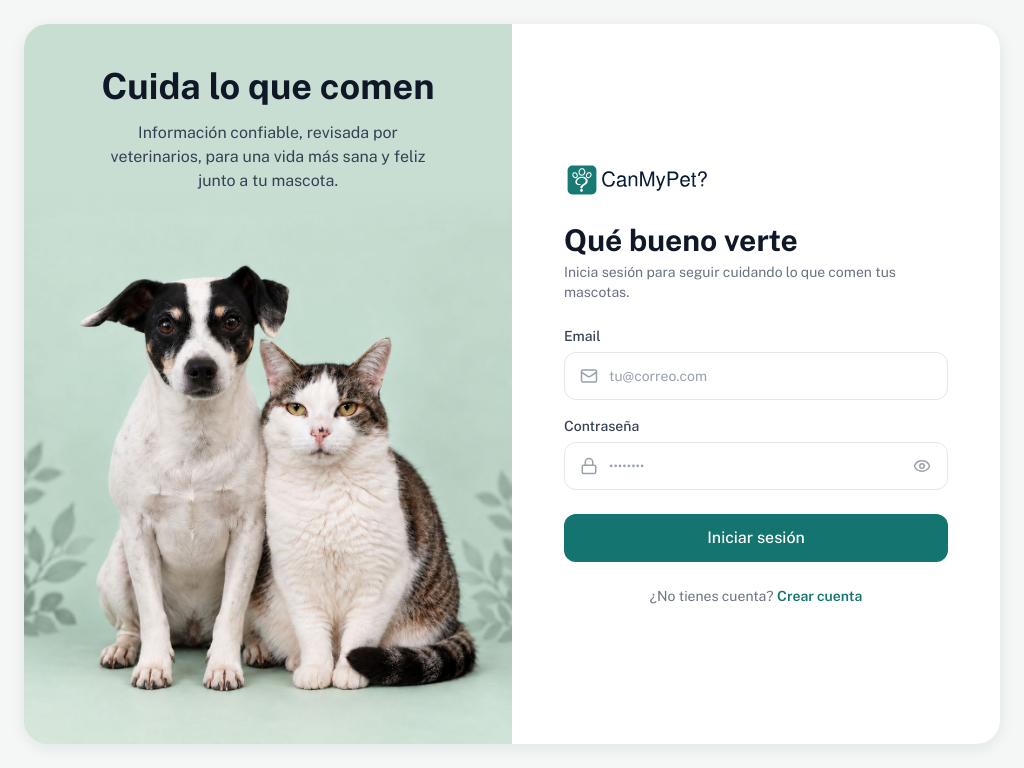
Test case: LoginPage › reports wrong credentials
The width and height of the screenshot is (1024, 768).
Step 1. Type "ana@correo.com" into the field labelled "Email" → x=756, y=376, box left=564, top=352, right=948, bottom=400
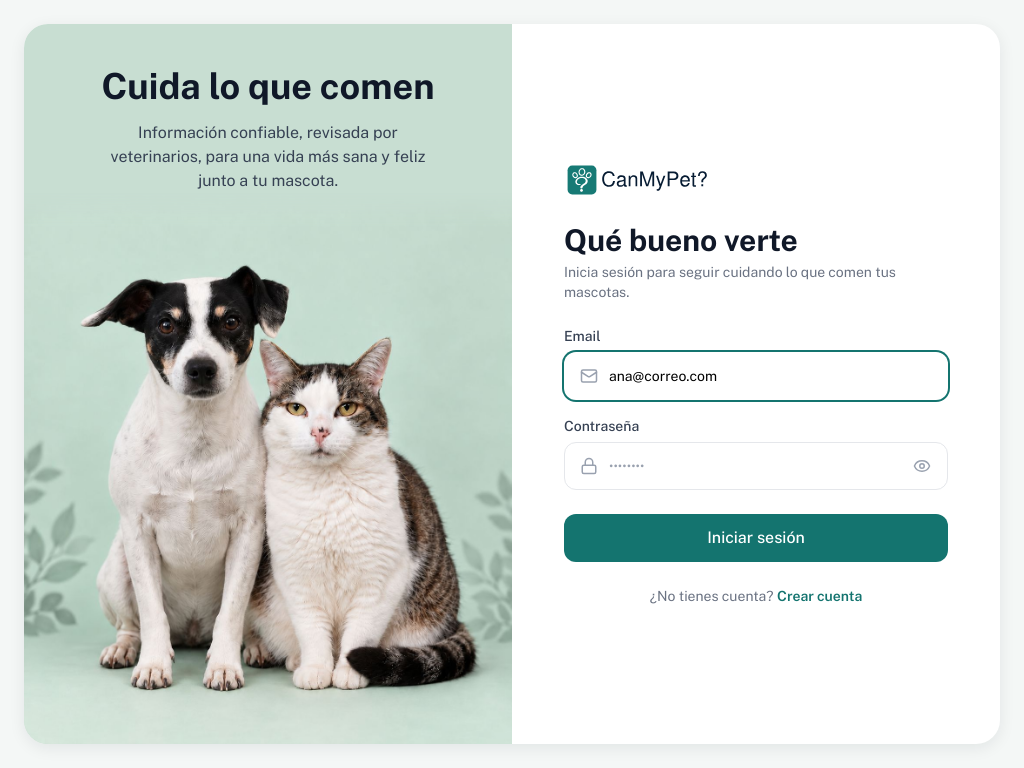
Step 2. Type "secreto123" into the password field labelled "Contraseña" → x=756, y=466, box left=564, top=442, right=948, bottom=490
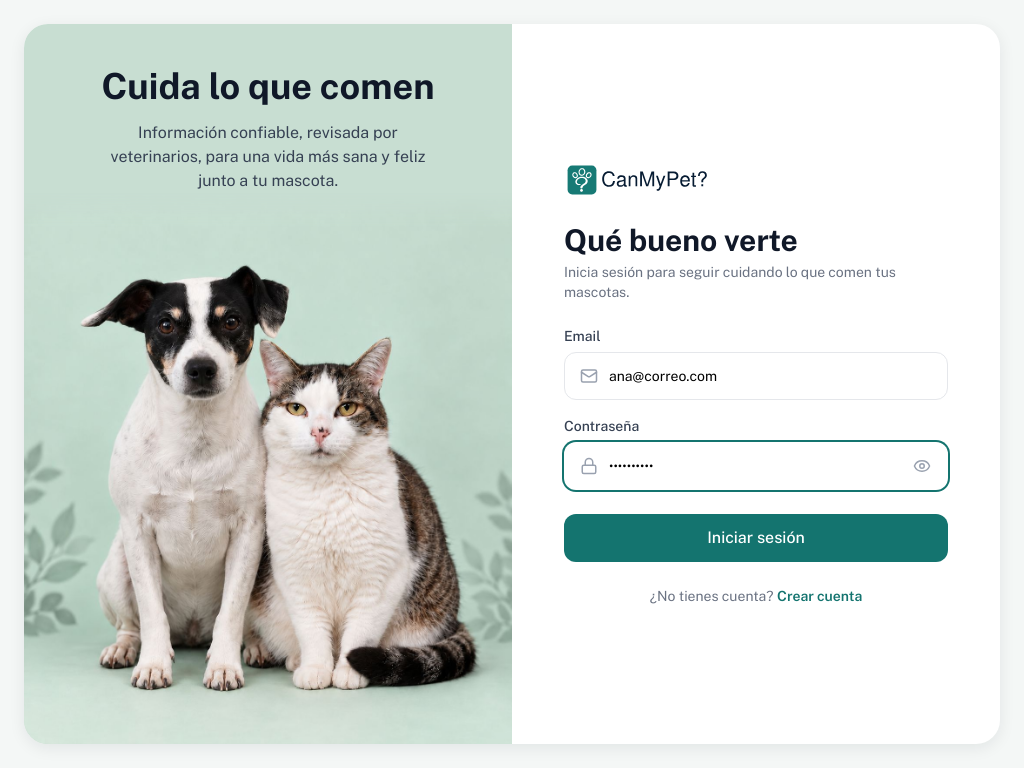
Step 3. Click the button "Iniciar sesión" → x=756, y=538, box left=564, top=514, right=948, bottom=562
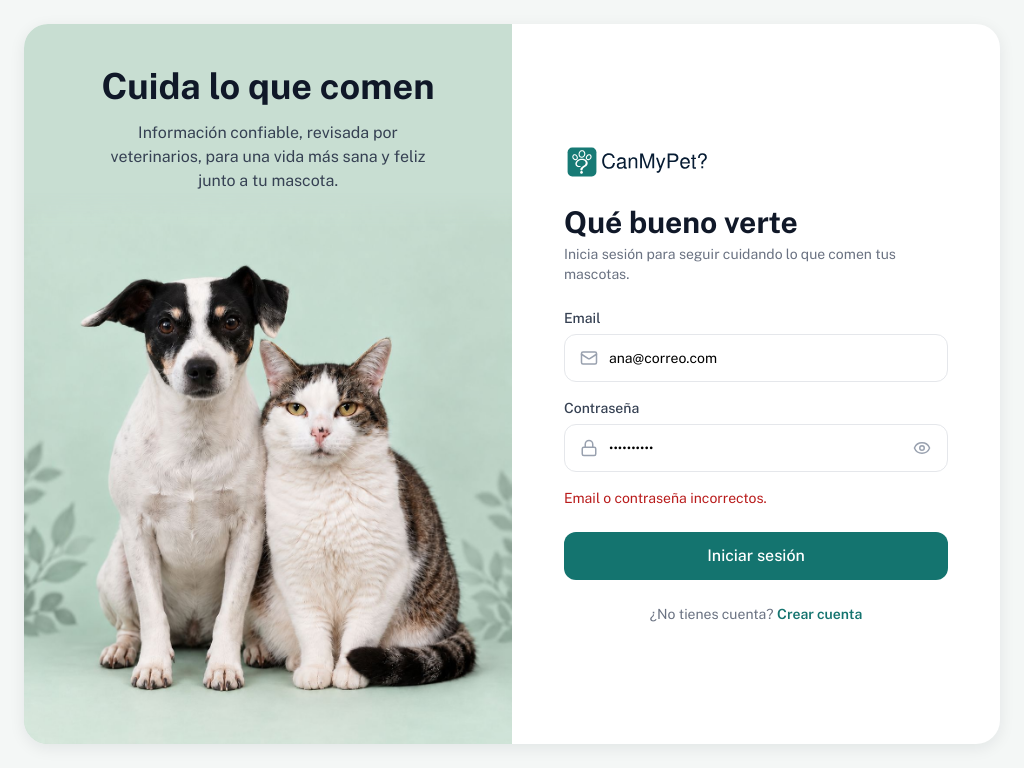
Now the message reads "Email o contraseña incorrectos.", box left=564, top=490, right=767, bottom=506
